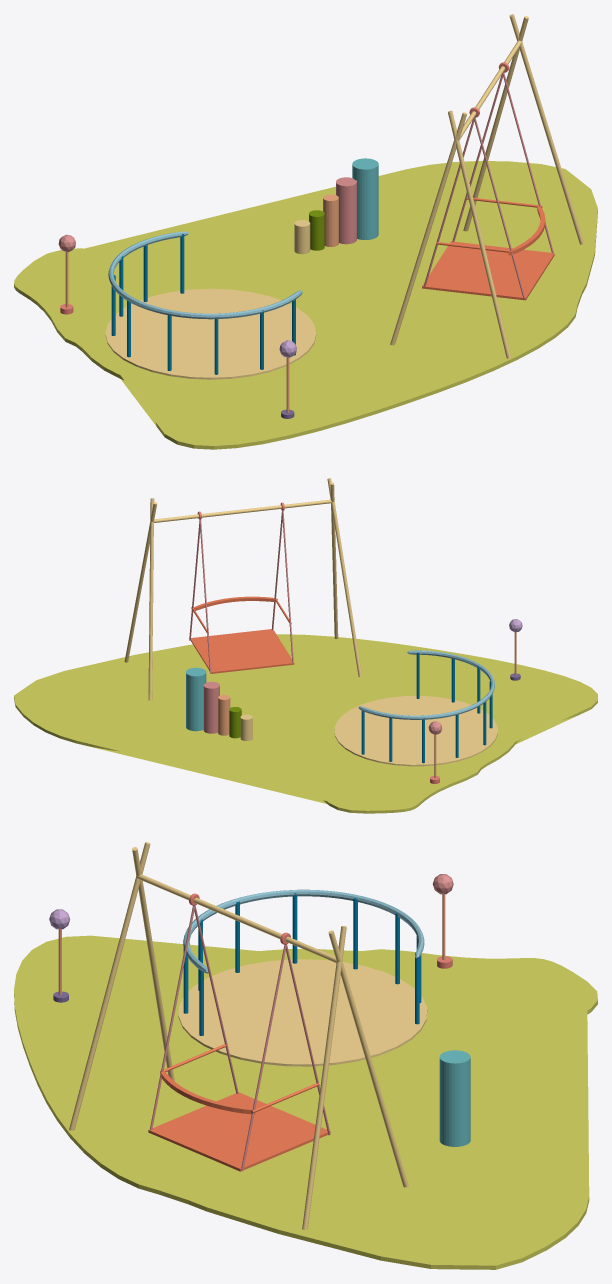
Rendered from AccessiblePlayground.fbx.
3 views of the same model, one above another, from view 1: azimuth 30°, elevation 25°; view 2: azimuth 150°, elevation 25°; view 3: azimuth 270°, elevation 25° (orthographic). The views are drawn at different scales.
Parts seen in each view (by area): view 1: WaterPark.002; view 2: WaterPark.002; view 3: WaterPark.002.
Boxes of the visible parts, x1,y1,x2,y2 form: WaterPark.002: (14,14,597,449); WaterPark.002: (14,478,597,813); WaterPark.002: (14,842,597,1269).
Bounding box in the file's own units: 501 × 195 × 375.
